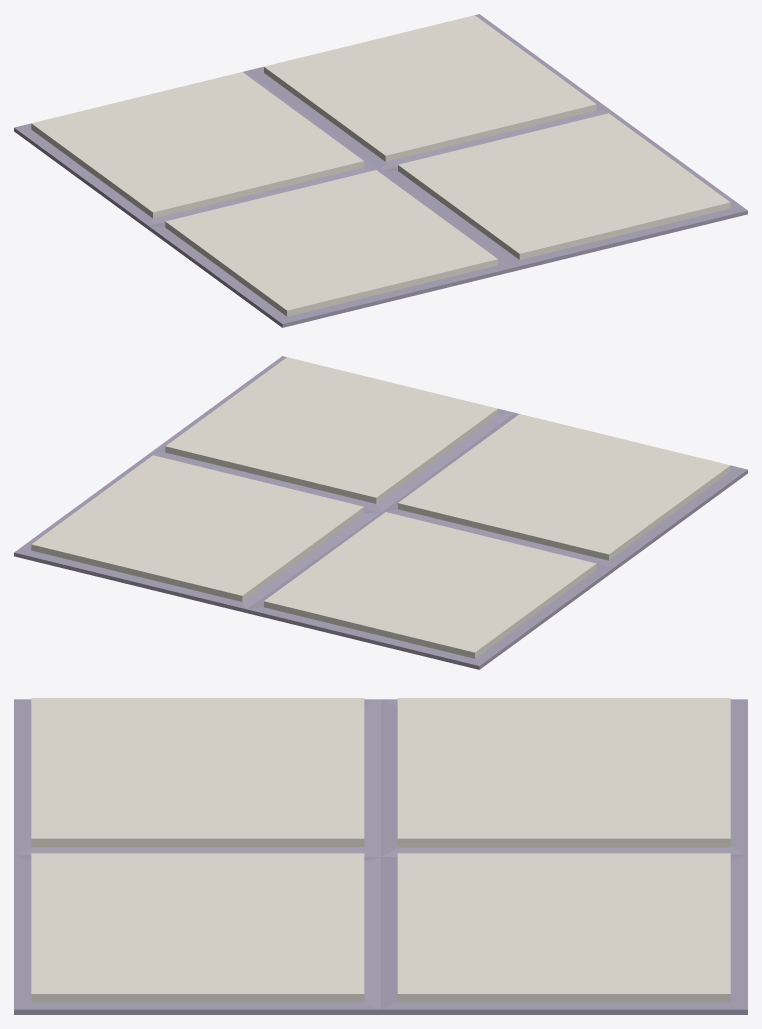
Rendered from floortiled.fbx.
3 renders of one model, top to bottom at view 1: azimuth 30°, elevation 25°; view 2: azimuth 150°, elevation 25°; view 3: azimuth 270°, elevation 25°, orthographic. The views are drawn at different scales.
Visible parts, largest first — view 1: FloorTiled; view 2: FloorTiled; view 3: FloorTiled.
Part boxes in pixels (x1,y1,x2,y2): FloorTiled: (14, 14, 747, 327); FloorTiled: (14, 356, 747, 669); FloorTiled: (14, 698, 747, 1014).
Size of the model in its own units: 422 by 8.66 by 421.
